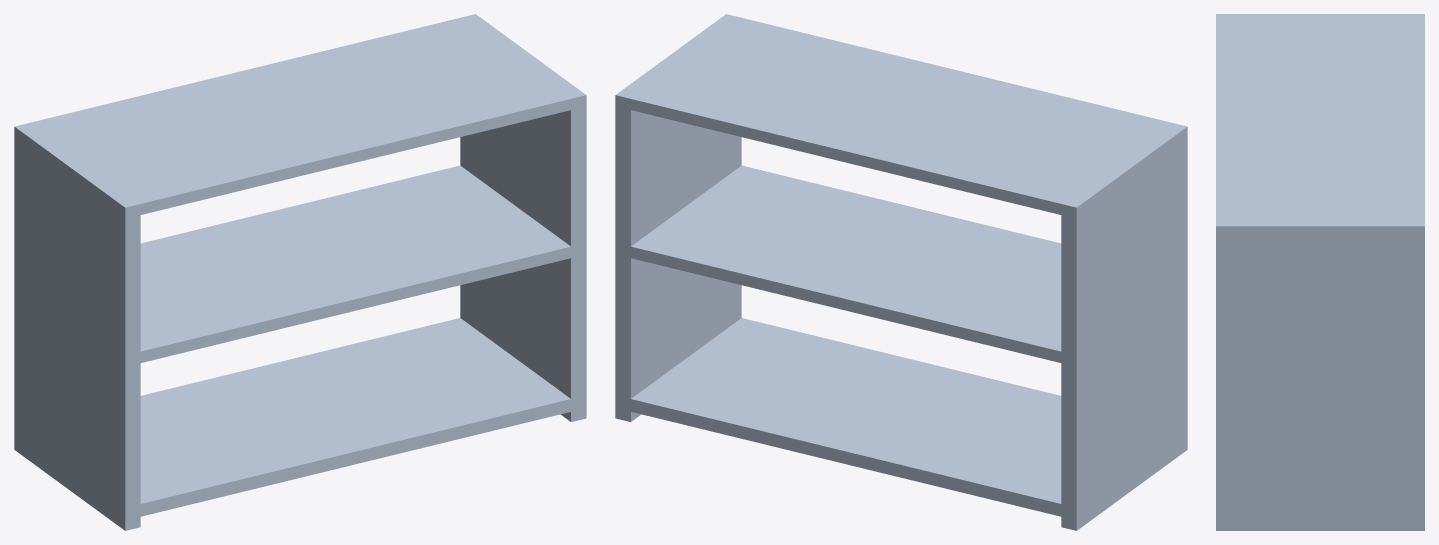
File: shelf.fbx
3 renders of one model, left to right at view 1: azimuth 30°, elevation 25°; view 2: azimuth 150°, elevation 25°; view 3: azimuth 270°, elevation 25°, orthographic. The views are drawn at different scales.
Parts seen in each view (by area): view 1: Cube; view 2: Cube; view 3: Cube.
Part boxes in pixels (left/top/right/bottom): Cube: left=14, top=14, right=586, bottom=530; Cube: left=615, top=14, right=1187, bottom=530; Cube: left=1216, top=14, right=1424, bottom=530.
Size of the model in its own units: 481 by 322 by 200.
